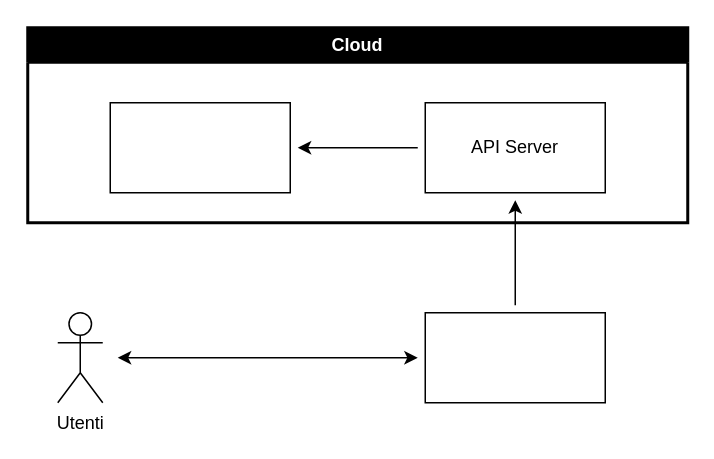
The diagram is 714 pixels wide and 459 high, and some of its shapes have lost their labels. The box of each missing label's shape, as (x1, y1, x2, y2) in pixels:
Database: (109, 101, 290, 193)
Web App accessibile da browser: (424, 311, 605, 403)
